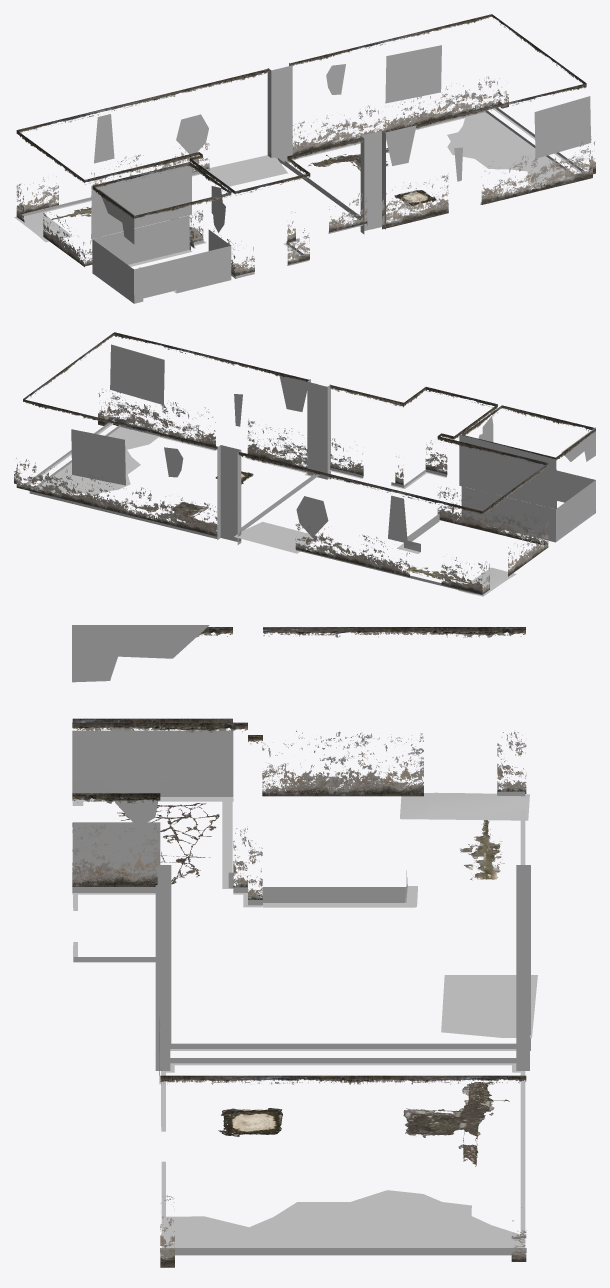
The model's file is A1_H2_Decals.FBX.
3 renders of one model, top to bottom at view 1: azimuth 30°, elevation 25°; view 2: azimuth 150°, elevation 25°; view 3: azimuth 270°, elevation 25°, orthographic. The views are drawn at different scales.
Visible parts, largest first — view 1: A1_H2_Decals; view 2: A1_H2_Decals; view 3: A1_H2_Decals.
Boxes of the visible parts, bbox=[...] form: A1_H2_Decals: bbox=[14, 14, 595, 303]; A1_H2_Decals: bbox=[14, 332, 595, 596]; A1_H2_Decals: bbox=[72, 625, 537, 1267].
Bounding box in the file's own units: 1874 × 354 × 795.
